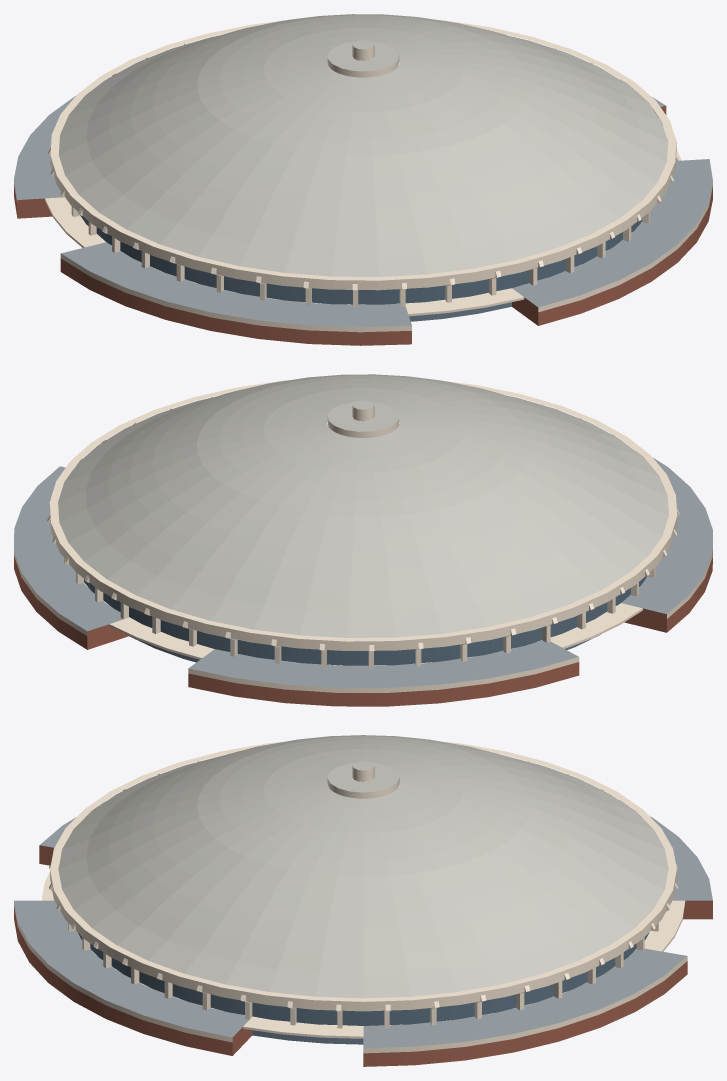
The model's file is slc-huntsman-center.glb.
3 renders of one model, top to bottom at view 1: azimuth 30°, elevation 25°; view 2: azimuth 150°, elevation 25°; view 3: azimuth 270°, elevation 25°, orthographic.
Visible parts, largest first — view 1: Jon M. Huntsman Center; view 2: Jon M. Huntsman Center; view 3: Jon M. Huntsman Center.
Boxes of the visible parts, x1=… form: Jon M. Huntsman Center: x1=14, y1=14, x2=712, y2=345; Jon M. Huntsman Center: x1=14, y1=374, x2=712, y2=706; Jon M. Huntsman Center: x1=14, y1=735, x2=712, y2=1066.
Bounding box in the file's own units: 126 × 30.5 × 126.
